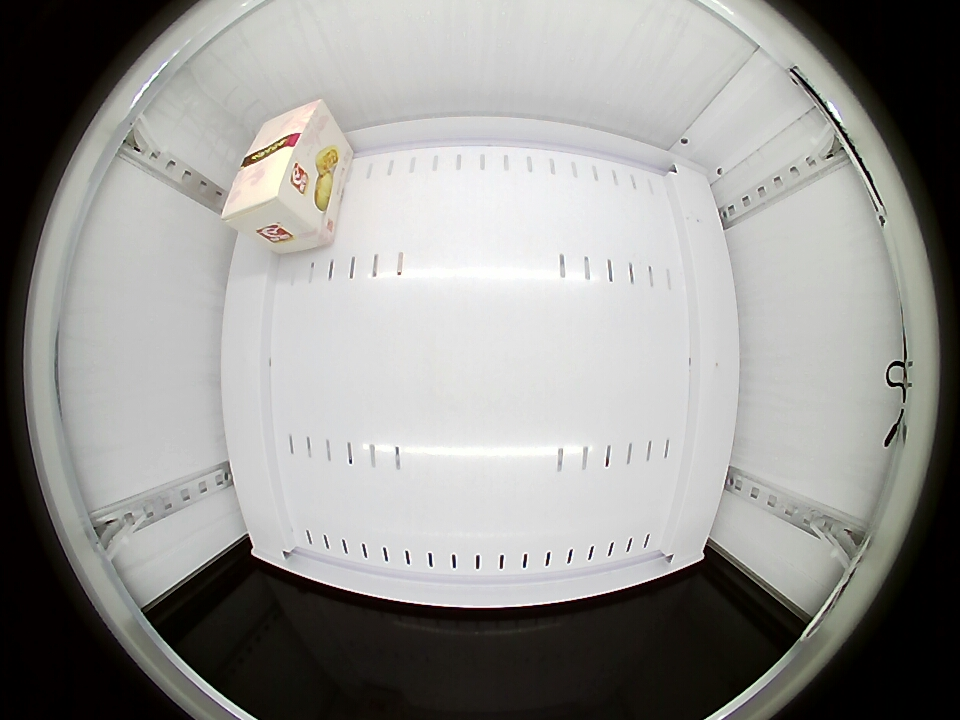rousongbing: (220, 98, 335, 237)
